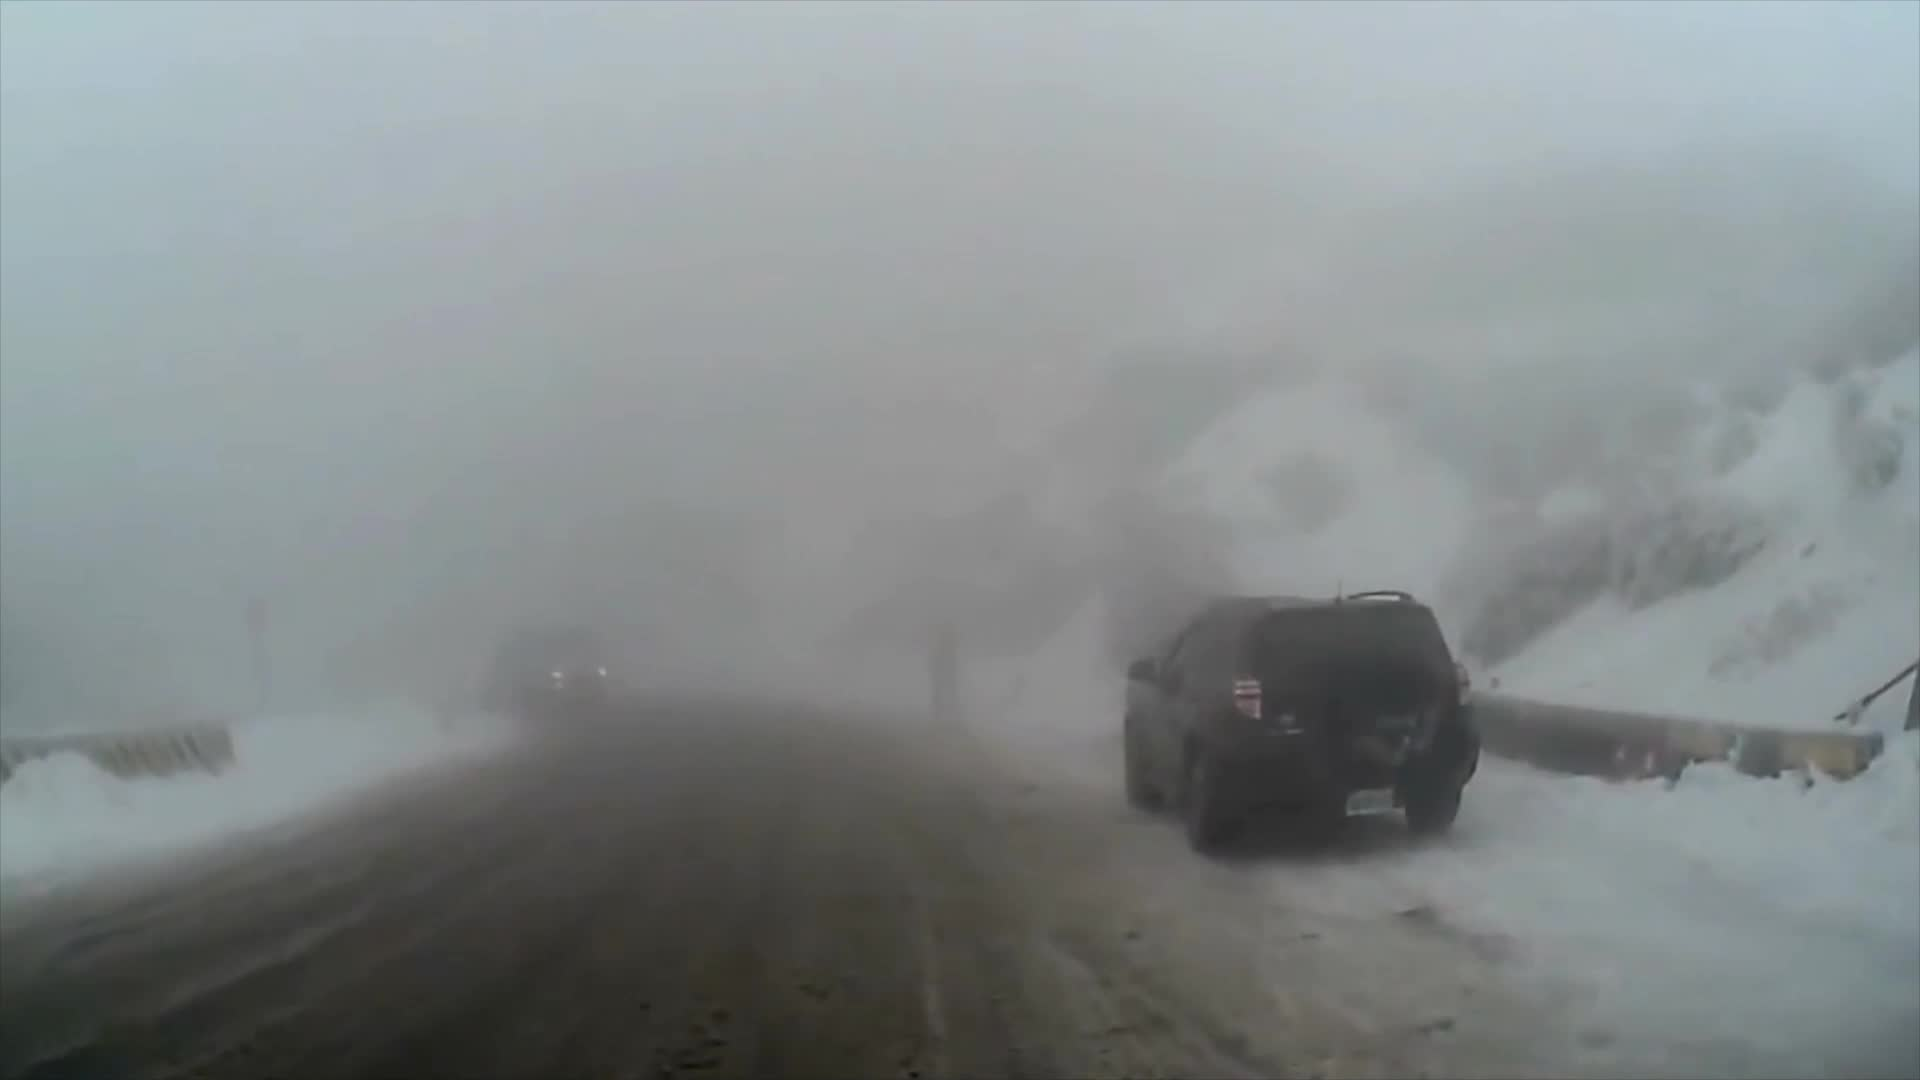vehicle: (1120, 578, 1484, 858)
